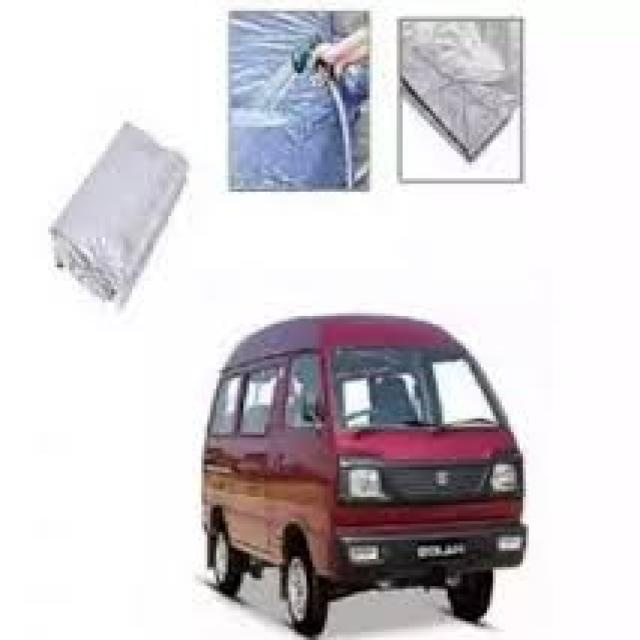Van: (198, 313, 532, 640)
